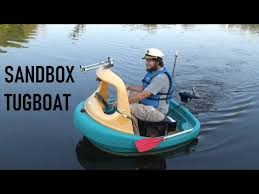boat: (73, 66, 200, 157)
